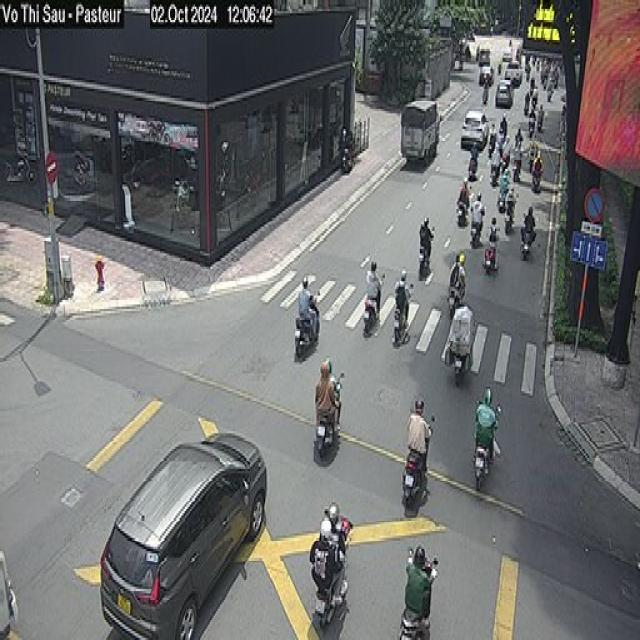car: (99, 431, 266, 638), (460, 109, 488, 149), (495, 77, 513, 106)
motorcycle: (471, 402, 501, 491), (361, 274, 385, 336), (294, 306, 318, 358), (481, 227, 500, 273), (519, 222, 536, 258)
person: (398, 544, 438, 638), (309, 516, 341, 620), (406, 395, 432, 489), (314, 360, 340, 444), (475, 387, 497, 462), (393, 266, 412, 338), (298, 276, 318, 340), (448, 251, 467, 316), (365, 260, 383, 318), (418, 215, 434, 269), (470, 191, 485, 242), (521, 204, 535, 249), (95, 253, 105, 291)
truck: (400, 96, 440, 164)
